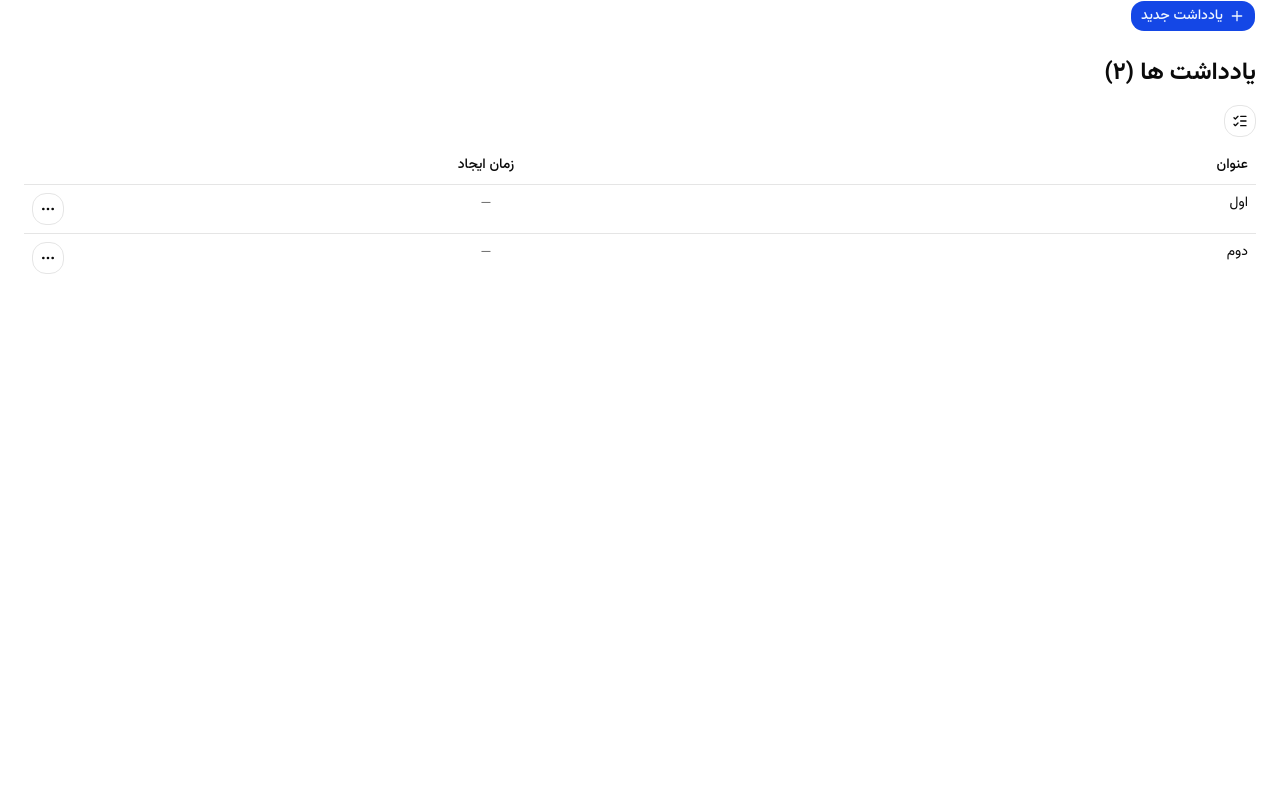
Scenario: NotesPage deleting selected notes › deletes nothing when the confirmation is cancelled
Click the button named "حالت انتخاب برای یادداشت ها" at [1240, 121], box left=1224, top=105, right=1256, bottom=137
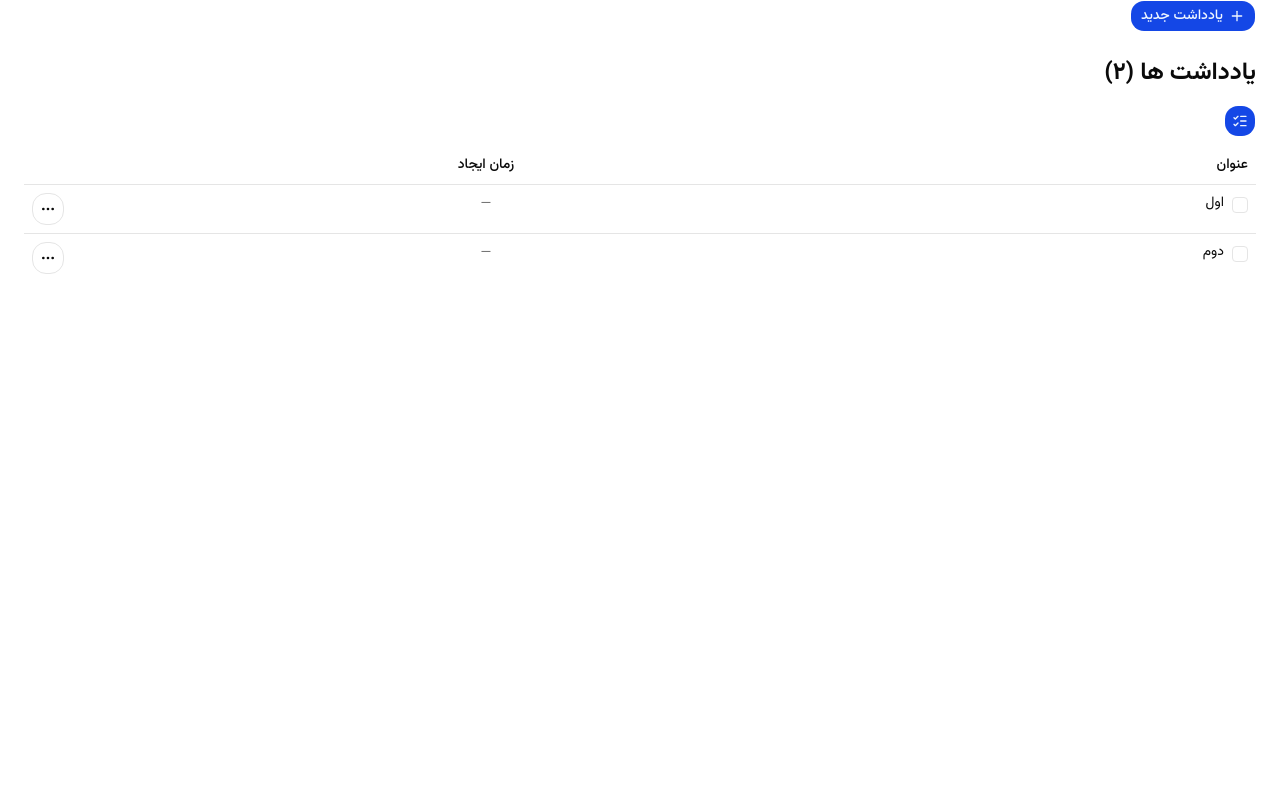
Click the button "اول" at [1215, 203], box left=640, top=193, right=1224, bottom=213
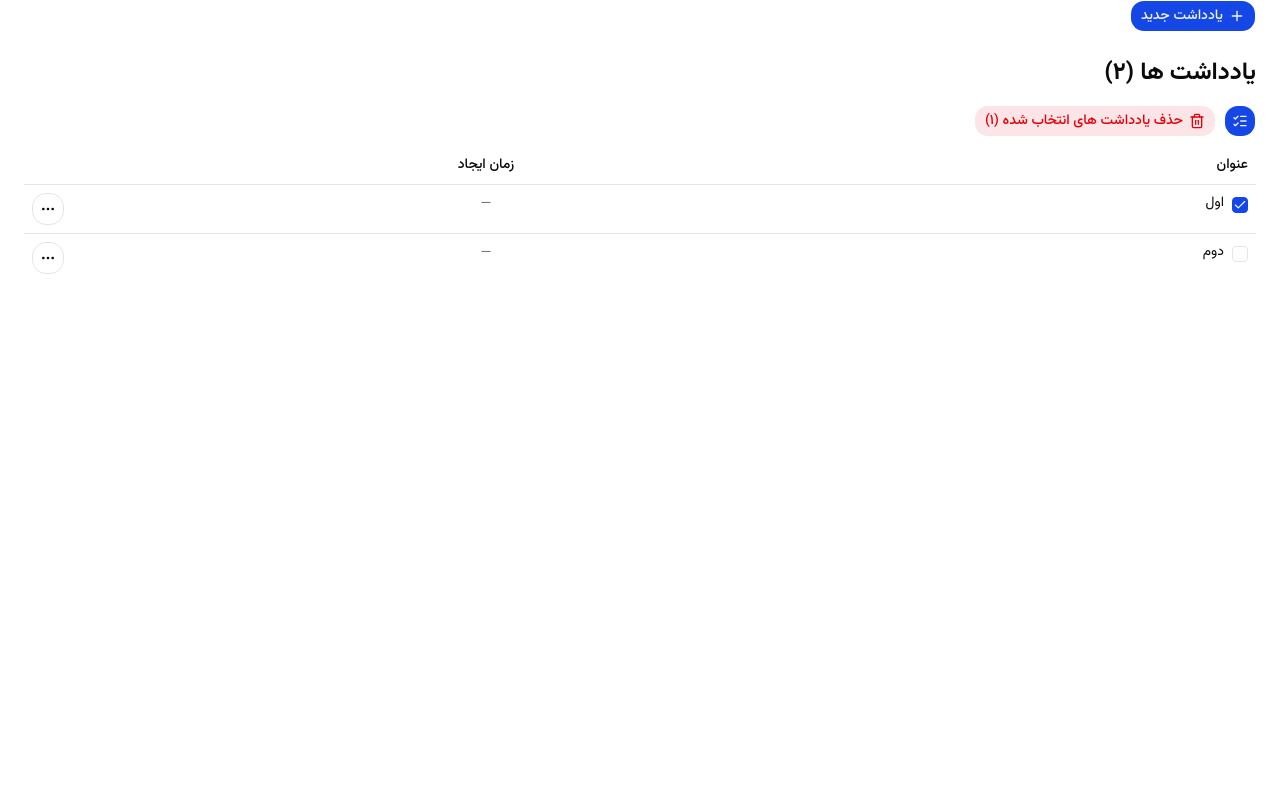
Click the button "حذف یادداشت های انتخاب شده (۱)" at [1095, 121], box left=974, top=105, right=1216, bottom=137
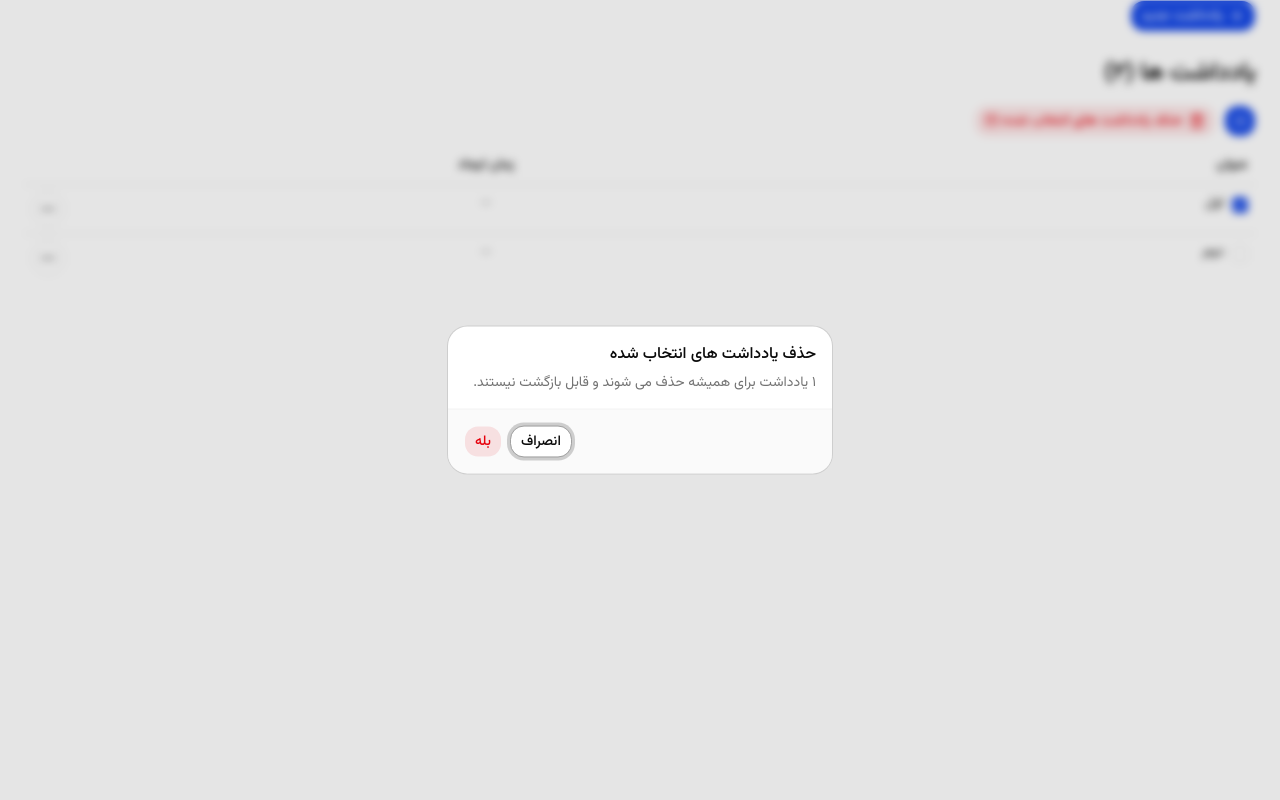
Click the button "انصراف" at [541, 442], box left=510, top=426, right=572, bottom=458
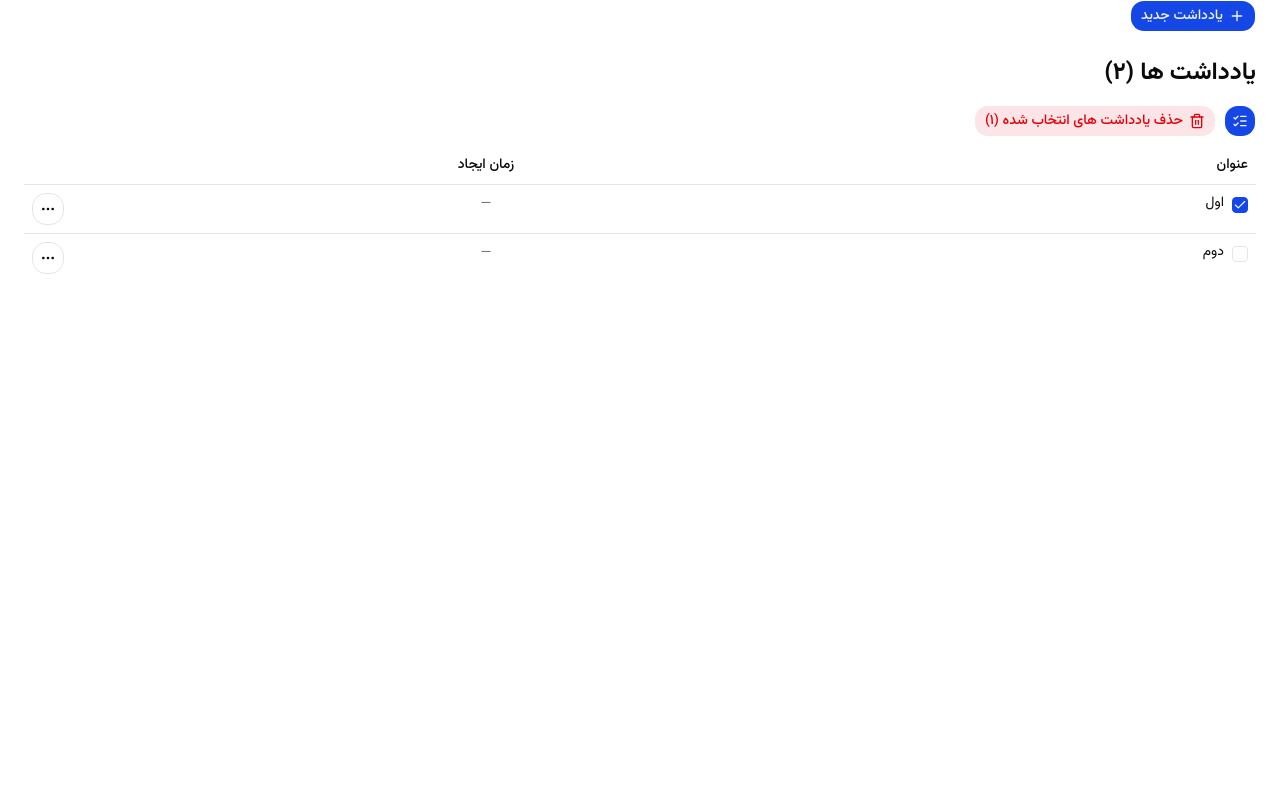
Expected: the text "قابل بازگشت نیستند" is gone
